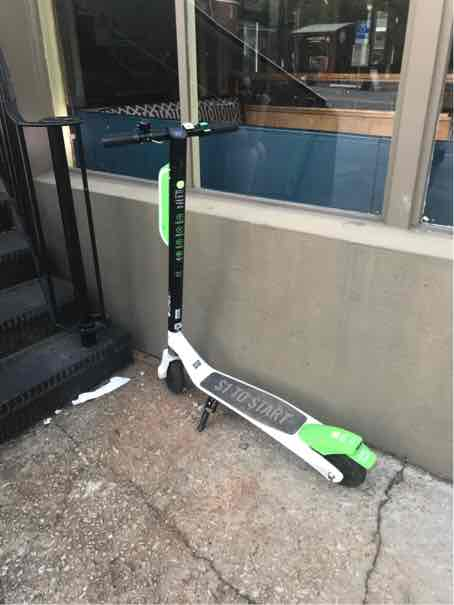scooter: (91, 109, 393, 494)
